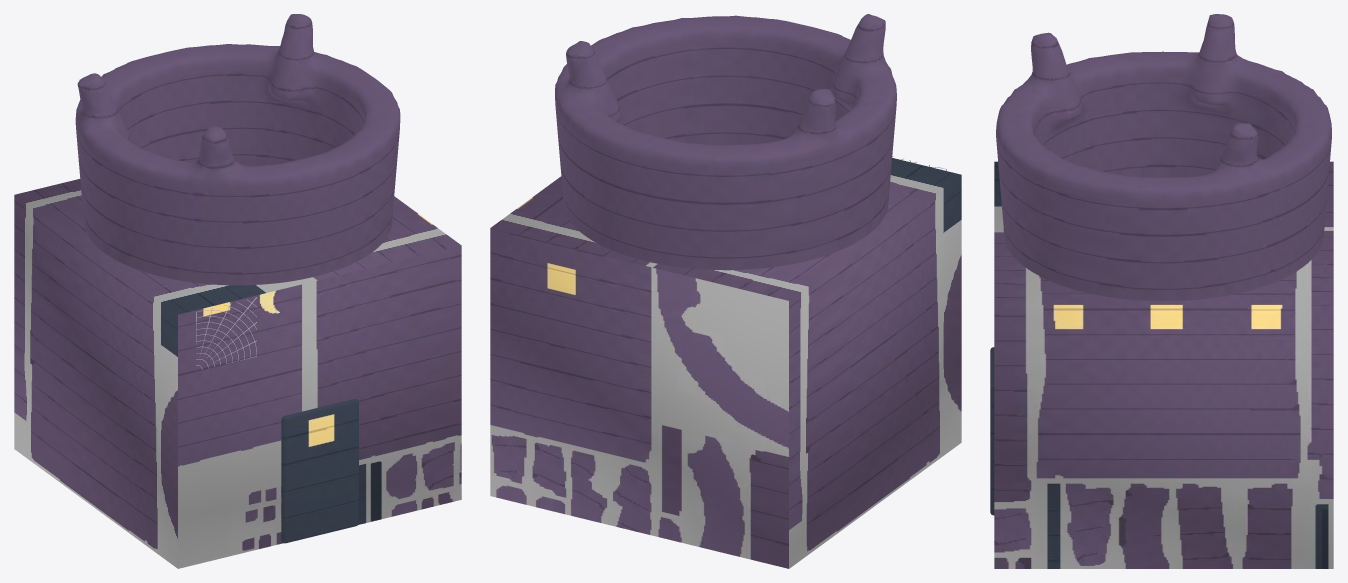
Rendered from house_starry.glb.
3 renders of one model, left to right at view 1: azimuth 30°, elevation 25°; view 2: azimuth 150°, elevation 25°; view 3: azimuth 270°, elevation 25°, orthographic. The views are drawn at different scales.
Parts seen in each view (by area): view 1: col, lod0, door, cobweb; view 2: col, lod0; view 3: col, lod0, door.
Part boxes in pixels (bbox=[...]): col: bbox=[14, 179, 461, 568]; lod0: bbox=[75, 14, 400, 285]; door: bbox=[281, 398, 358, 543]; cobweb: bbox=[196, 297, 256, 369]; col: bbox=[490, 158, 961, 568]; lod0: bbox=[555, 14, 896, 270]; col: bbox=[994, 161, 1333, 568]; lod0: bbox=[996, 14, 1331, 300]; door: bbox=[990, 347, 994, 515].
Size of what is drawn, in the model's own units: 7 by 9.61 by 7.09.
2 materials, 2 textured.
